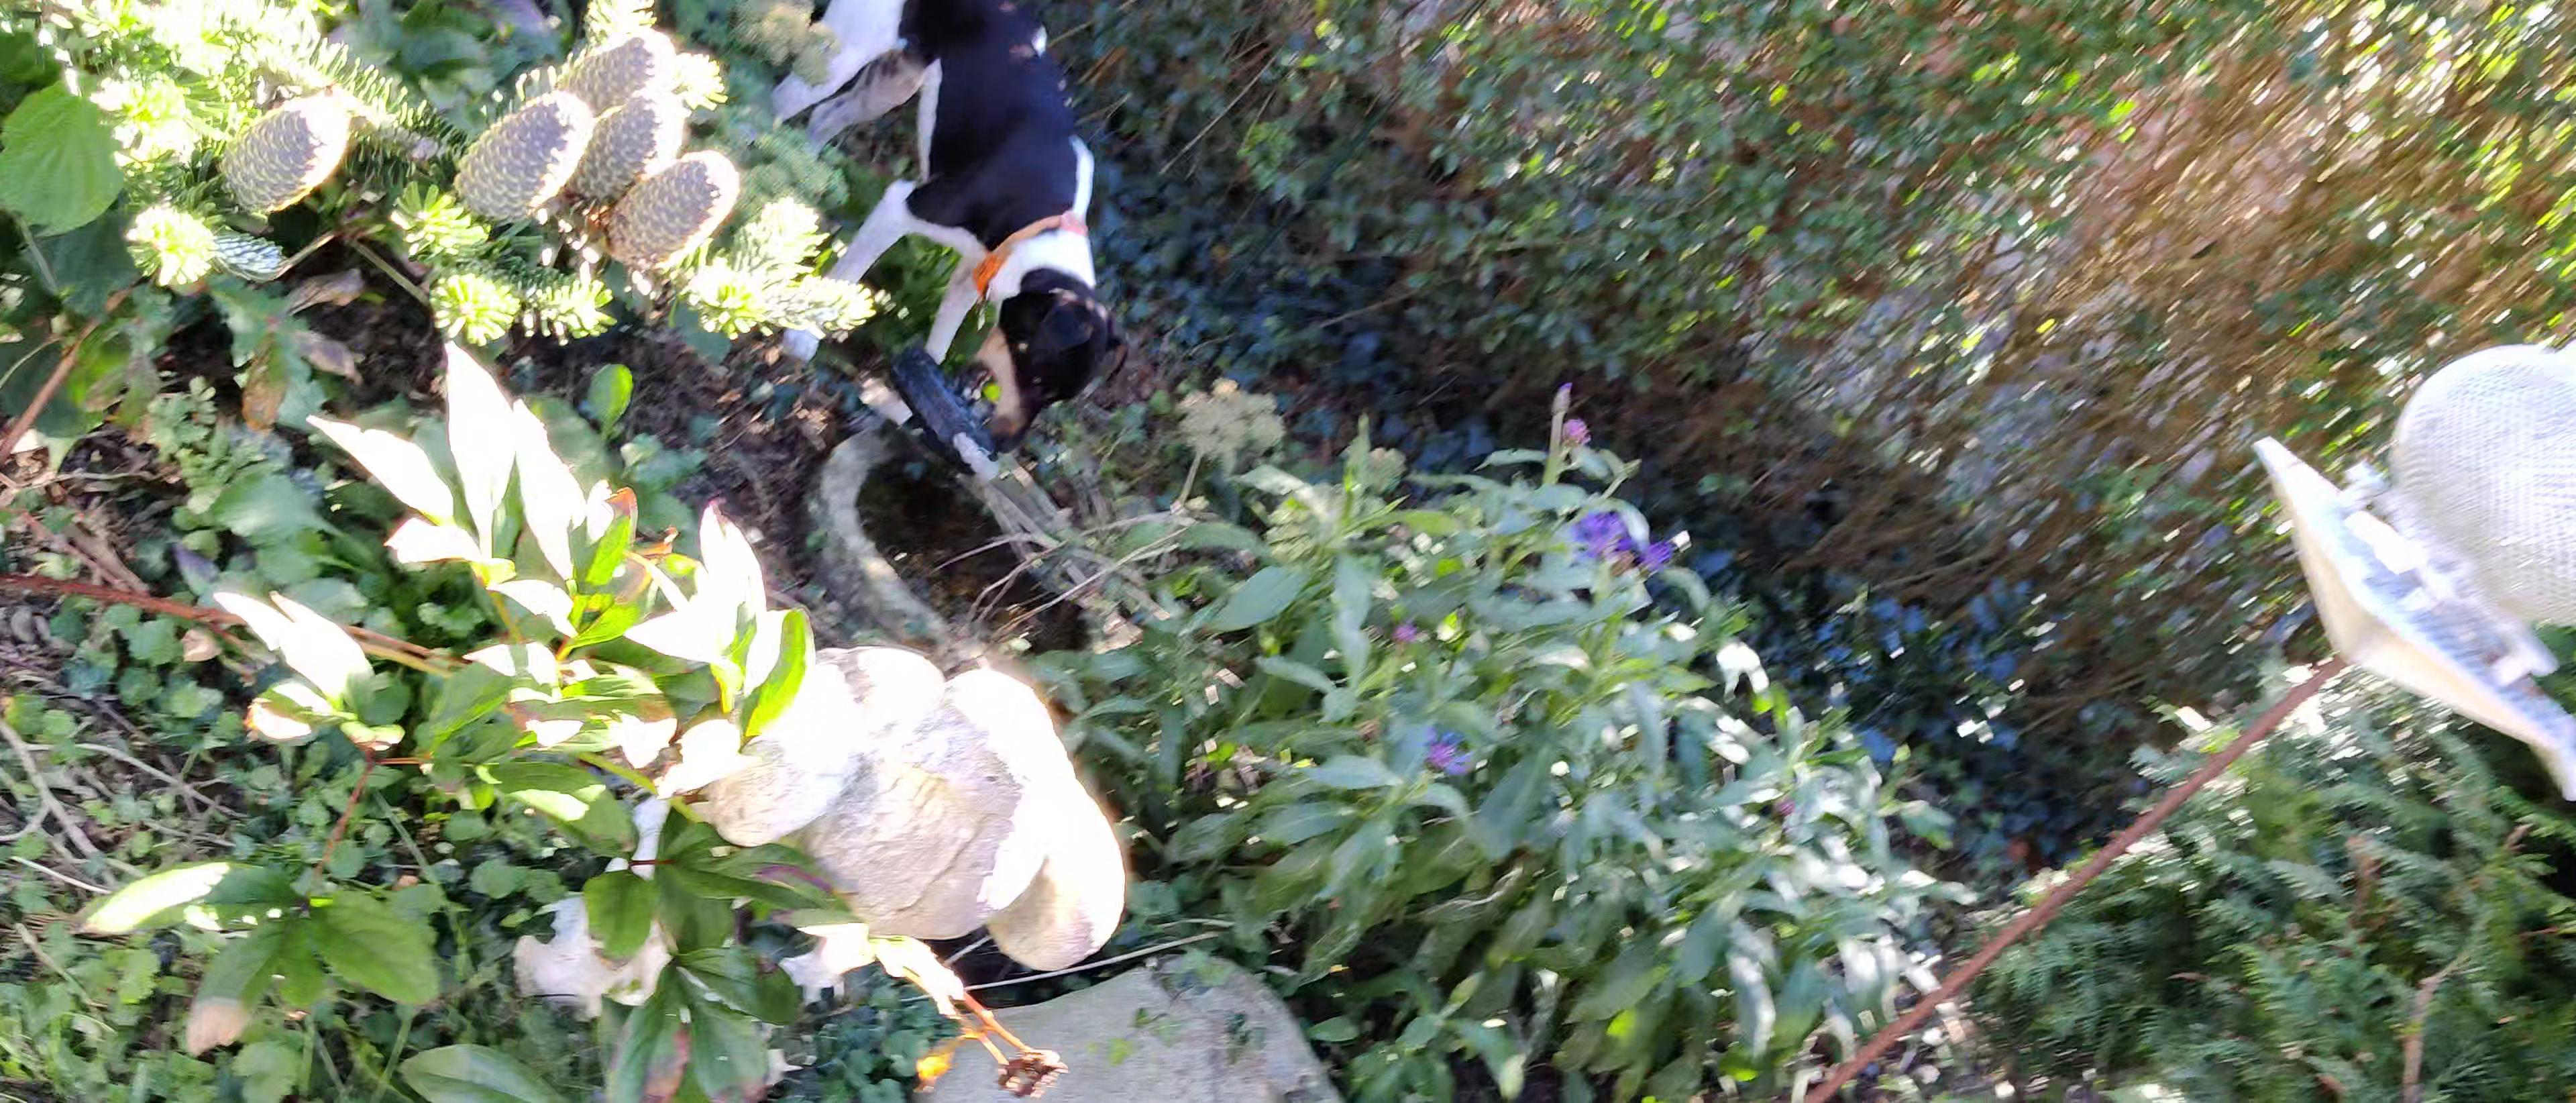Dog: (734, 0, 1134, 462)
